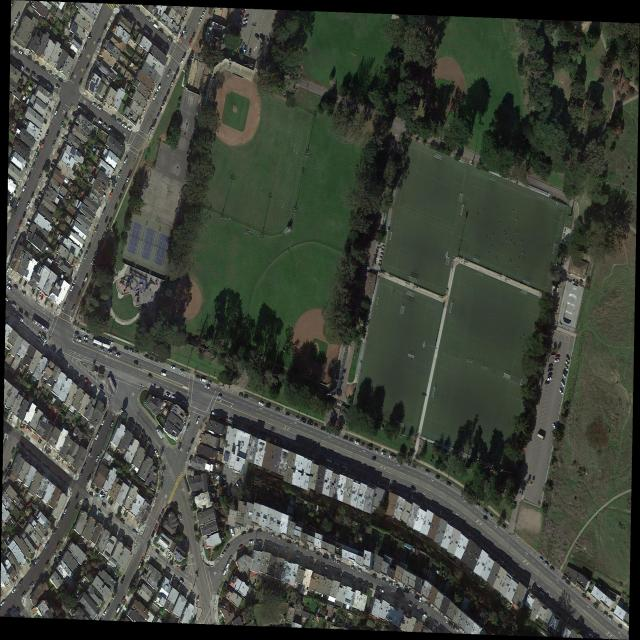large-vehicle: (32, 319, 49, 333), (93, 339, 110, 350), (107, 376, 117, 394), (14, 313, 24, 322), (156, 428, 163, 439), (41, 336, 47, 342)
small-vehicle: (181, 565, 188, 571), (18, 308, 24, 315), (153, 23, 159, 30), (152, 93, 157, 101), (21, 591, 26, 599), (116, 606, 121, 614), (192, 615, 197, 623), (11, 302, 16, 309), (84, 378, 89, 385), (162, 97, 167, 104), (123, 157, 128, 164), (220, 551, 225, 558), (54, 559, 59, 566), (102, 502, 107, 509), (118, 171, 122, 179), (125, 177, 129, 185), (196, 417, 200, 425), (109, 422, 113, 430), (157, 85, 161, 93), (149, 126, 153, 134), (45, 129, 49, 137), (22, 185, 26, 193), (16, 199, 20, 207), (223, 568, 227, 576), (151, 530, 155, 538), (56, 541, 60, 549), (75, 504, 79, 512), (7, 285, 12, 291), (24, 313, 29, 319), (200, 378, 206, 383), (211, 411, 217, 416), (144, 29, 149, 35), (72, 112, 77, 118), (54, 75, 59, 81), (46, 83, 51, 89), (20, 64, 25, 70), (92, 102, 97, 108), (97, 106, 103, 111), (122, 123, 127, 129), (540, 590, 545, 596), (581, 593, 586, 599), (483, 509, 488, 515), (460, 492, 465, 498), (120, 518, 125, 524), (29, 582, 34, 588), (389, 455, 395, 460), (84, 275, 88, 282), (81, 282, 85, 289), (78, 289, 82, 296), (44, 298, 48, 305), (23, 280, 27, 287), (94, 251, 98, 258), (113, 183, 117, 190), (31, 192, 35, 199), (26, 203, 30, 210), (13, 233, 17, 240), (10, 240, 14, 247), (122, 185, 126, 192), (114, 203, 118, 210), (191, 437, 195, 444), (155, 450, 159, 457), (167, 71, 171, 78), (198, 18, 202, 25), (170, 82, 174, 89), (103, 23, 107, 30), (97, 39, 101, 46), (86, 63, 90, 70), (79, 77, 83, 84), (13, 18, 17, 25), (41, 141, 45, 148), (57, 102, 61, 109), (54, 109, 58, 116), (64, 112, 68, 119), (52, 141, 56, 148), (42, 165, 46, 172), (101, 419, 105, 426), (98, 426, 102, 433), (392, 580, 396, 587), (419, 595, 423, 602), (238, 480, 242, 487), (225, 544, 229, 551), (231, 528, 235, 535), (229, 555, 233, 562), (226, 562, 230, 569), (182, 27, 186, 34), (128, 170, 132, 177), (562, 372, 566, 379), (559, 388, 563, 395), (94, 434, 98, 441), (167, 551, 171, 558), (45, 543, 49, 550), (20, 423, 24, 430), (22, 424, 26, 431), (87, 475, 91, 482), (75, 493, 79, 500), (7, 462, 11, 469), (3, 469, 7, 476), (63, 508, 67, 515), (60, 514, 64, 521), (122, 597, 126, 604), (112, 594, 116, 601), (103, 609, 107, 616), (7, 279, 12, 284), (27, 221, 32, 226), (161, 372, 166, 377), (171, 395, 176, 400), (166, 392, 171, 397), (76, 338, 81, 343), (124, 346, 129, 351), (38, 194, 43, 199), (146, 17, 151, 22), (68, 123, 73, 128), (98, 120, 103, 125), (19, 51, 24, 56), (27, 56, 32, 61), (55, 85, 60, 90), (31, 72, 36, 77), (117, 120, 122, 125), (127, 127, 132, 132), (379, 588, 384, 593), (414, 595, 419, 600), (294, 543, 299, 548), (423, 613, 428, 618), (434, 622, 439, 627), (405, 461, 410, 466), (425, 470, 430, 475), (446, 482, 451, 487), (97, 509, 102, 514), (132, 530, 137, 535), (328, 429, 333, 434), (259, 401, 264, 406), (343, 435, 348, 440), (355, 441, 360, 446), (223, 416, 228, 421), (0, 601, 5, 606), (244, 15, 249, 20), (242, 24, 247, 29), (70, 286, 74, 292), (62, 304, 66, 310), (91, 259, 95, 265), (19, 278, 23, 284), (22, 291, 26, 297), (87, 244, 91, 250), (118, 193, 122, 199), (100, 385, 104, 391), (178, 443, 182, 449), (121, 409, 125, 415), (34, 203, 38, 209), (137, 22, 141, 28), (201, 12, 205, 18), (166, 89, 170, 95), (156, 112, 160, 118), (153, 120, 157, 126), (168, 37, 172, 43), (78, 55, 82, 61), (120, 7, 124, 13), (136, 6, 140, 12), (17, 12, 21, 18), (589, 632, 593, 638), (99, 492, 103, 498), (539, 557, 543, 563), (497, 521, 501, 527), (566, 356, 570, 362), (552, 423, 556, 429), (475, 502, 479, 508), (236, 483, 240, 489), (169, 561, 173, 567), (121, 577, 124, 585), (45, 560, 49, 566), (35, 559, 39, 565), (95, 456, 99, 462), (88, 450, 92, 456), (82, 464, 86, 470), (158, 458, 162, 464), (11, 448, 15, 454), (31, 561, 35, 567), (265, 404, 271, 408), (307, 421, 313, 425), (260, 35, 264, 41), (19, 580, 23, 586), (241, 9, 245, 15), (255, 34, 259, 40), (41, 293, 44, 300), (84, 253, 87, 260), (36, 291, 39, 298), (19, 220, 22, 227), (110, 191, 113, 198), (102, 208, 105, 215), (105, 216, 108, 223), (78, 381, 81, 388), (186, 425, 189, 432), (189, 39, 192, 46), (192, 32, 195, 39), (176, 68, 179, 75), (70, 73, 73, 80), (57, 131, 60, 138), (566, 360, 569, 367), (194, 525, 197, 532), (56, 456, 59, 463), (26, 225, 30, 230), (102, 193, 106, 198), (195, 375, 200, 379), (205, 386, 210, 390), (182, 400, 187, 404), (148, 375, 153, 379), (107, 351, 112, 355), (81, 328, 85, 333), (99, 348, 104, 352), (112, 348, 116, 353), (129, 349, 134, 353), (115, 354, 120, 358), (144, 355, 149, 359), (154, 358, 158, 363), (161, 44, 165, 49), (159, 29, 163, 34), (52, 161, 56, 166), (14, 47, 18, 52), (43, 120, 47, 125), (78, 106, 83, 110), (93, 116, 97, 121), (35, 61, 39, 66), (48, 71, 52, 76), (37, 77, 42, 81), (25, 69, 30, 73), (112, 115, 116, 120), (107, 127, 112, 131), (324, 567, 329, 571), (368, 584, 373, 588), (336, 561, 341, 565), (249, 540, 254, 544), (323, 555, 328, 559), (287, 540, 291, 545), (551, 352, 556, 356), (544, 562, 548, 567), (562, 576, 566, 581), (566, 581, 571, 585), (586, 597, 590, 602), (618, 623, 622, 628), (424, 601, 428, 606), (448, 622, 452, 627), (455, 627, 459, 632), (87, 34, 91, 39), (548, 368, 553, 372), (435, 476, 440, 480), (489, 514, 493, 519), (180, 580, 184, 585), (59, 554, 64, 558), (334, 462, 339, 466), (89, 492, 93, 497), (116, 515, 120, 520), (285, 412, 290, 416), (294, 416, 299, 420), (301, 419, 306, 423), (335, 432, 339, 437), (349, 438, 353, 443), (367, 446, 372, 450), (374, 449, 379, 453), (381, 452, 386, 456), (327, 459, 332, 463), (11, 589, 16, 593), (106, 605, 110, 610), (240, 13, 244, 18), (238, 20, 242, 25), (73, 278, 76, 284), (72, 306, 75, 312), (51, 302, 54, 308), (32, 289, 35, 295), (7, 266, 10, 272), (39, 175, 42, 181), (23, 212, 26, 218), (103, 232, 106, 238), (95, 227, 98, 233), (109, 218, 112, 224), (106, 224, 109, 230), (187, 448, 190, 454), (181, 58, 184, 64), (173, 75, 176, 81), (160, 105, 163, 111), (83, 44, 86, 50), (36, 154, 39, 160), (32, 164, 35, 170), (27, 175, 30, 181), (104, 414, 107, 420), (227, 491, 230, 497), (446, 618, 449, 624), (565, 365, 568, 371), (564, 369, 567, 375), (561, 381, 564, 387), (196, 573, 199, 579), (161, 509, 164, 515), (158, 516, 161, 522), (141, 557, 144, 563), (138, 563, 141, 569), (128, 585, 131, 591), (108, 499, 111, 505), (110, 500, 113, 506), (54, 528, 57, 534), (244, 46, 247, 52), (208, 381, 212, 385), (218, 394, 222, 398), (86, 331, 90, 335), (75, 333, 79, 337), (84, 336, 88, 340), (93, 345, 97, 349), (109, 341, 113, 345), (171, 366, 175, 370), (134, 351, 138, 355), (134, 361, 138, 365), (149, 357, 153, 361), (46, 176, 50, 180), (47, 108, 51, 112), (37, 134, 41, 138), (83, 109, 87, 113), (41, 66, 45, 70), (103, 124, 107, 128), (296, 555, 300, 559), (350, 566, 354, 570), (372, 575, 376, 579), (381, 579, 385, 583), (388, 582, 392, 586), (274, 546, 278, 550), (330, 554, 334, 558), (353, 578, 357, 582), (360, 581, 364, 585), (395, 595, 399, 599), (408, 604, 412, 608), (404, 589, 408, 593), (331, 558, 335, 562), (239, 545, 243, 549), (241, 532, 245, 536), (270, 533, 274, 537), (277, 536, 281, 540), (556, 355, 560, 359), (555, 359, 559, 363), (603, 613, 607, 617), (547, 377, 551, 381), (412, 464, 416, 468), (197, 510, 201, 514), (155, 550, 159, 554), (161, 481, 163, 489), (276, 408, 280, 412), (321, 427, 325, 431), (361, 443, 365, 447), (243, 20, 247, 24), (14, 284, 17, 289), (83, 341, 88, 344), (52, 358, 55, 363), (180, 35, 183, 40), (183, 53, 186, 58), (61, 122, 64, 127), (36, 137, 39, 142), (59, 78, 62, 83), (357, 569, 362, 572), (258, 540, 263, 543), (248, 530, 253, 533), (257, 530, 262, 533), (608, 616, 611, 621), (453, 624, 456, 629), (342, 466, 347, 469), (155, 525, 158, 530), (313, 424, 318, 427), (17, 608, 20, 613), (249, 50, 251, 57), (39, 293, 41, 299), (103, 494, 105, 500), (180, 370, 184, 373), (165, 48, 168, 52), (267, 543, 271, 546), (282, 550, 286, 553), (395, 585, 399, 588), (222, 477, 226, 480), (239, 524, 241, 530), (302, 547, 306, 550), (307, 545, 309, 551), (316, 552, 320, 555), (550, 567, 554, 570), (549, 365, 553, 368), (484, 516, 487, 520), (502, 525, 505, 529), (548, 373, 552, 376), (180, 514, 182, 520), (174, 502, 177, 506), (244, 395, 248, 398), (372, 457, 375, 461), (239, 393, 243, 396), (229, 419, 233, 422), (240, 41, 242, 47), (243, 43, 245, 49), (313, 548, 315, 553), (223, 485, 226, 488), (545, 382, 548, 385), (39, 131, 41, 135)
